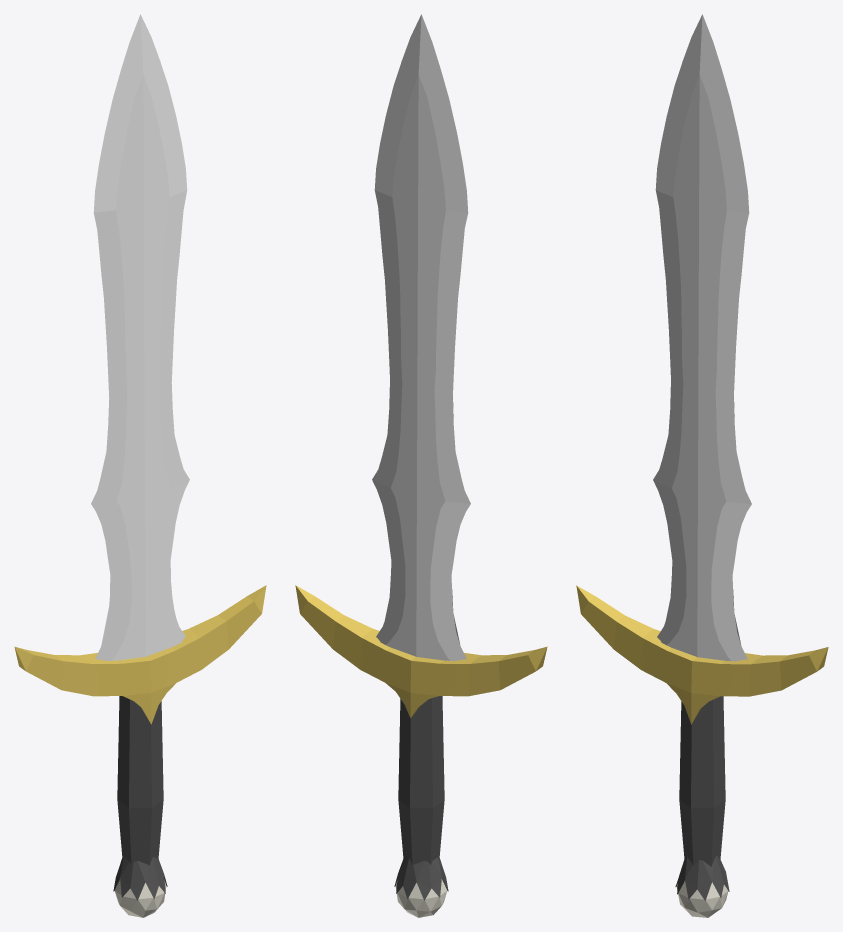
The model's file is FBX_ShortSword_Basic.fbx.
The picture shows the model from 3 angles, left to right: view 1: azimuth 30°, elevation 25°; view 2: azimuth 150°, elevation 25°; view 3: azimuth 330°, elevation 25°; orthographic projection.
Parts seen in each view (by area): view 1: edge, middle, handle, crystal_wrap, crystal; view 2: edge, middle, handle, crystal_wrap, crystal; view 3: edge, middle, handle, crystal_wrap, crystal.
Part boxes in pixels (x1,y1,x2,y2): edge: (91, 14, 189, 660); middle: (14, 585, 266, 724); handle: (117, 696, 163, 865); crystal_wrap: (113, 856, 167, 900); crystal: (114, 879, 166, 917); edge: (372, 14, 470, 661); middle: (295, 585, 547, 718); handle: (398, 696, 444, 865); crystal_wrap: (394, 856, 448, 900); crystal: (395, 879, 447, 917); edge: (653, 14, 751, 661); middle: (576, 585, 828, 724); handle: (679, 696, 725, 866); crystal_wrap: (675, 855, 729, 900); crystal: (676, 881, 728, 917).
Size of the model in its own units: 0.0563 by 1.01 by 0.2951.
